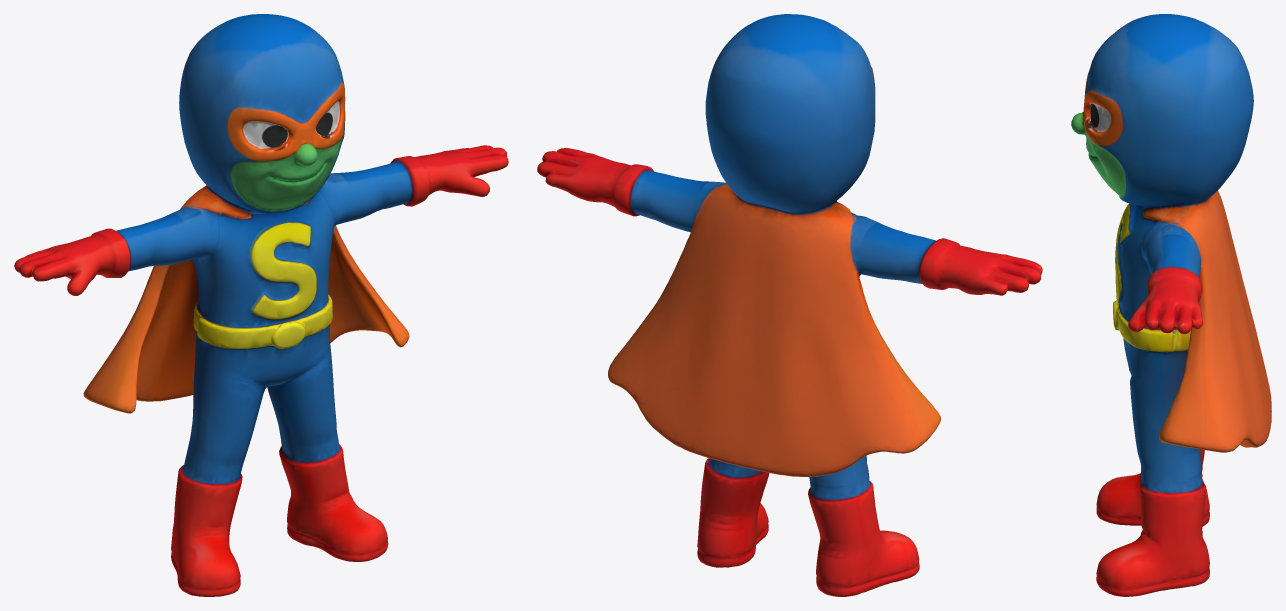
Rendered from remeshed.glb.
3 renders of one model, left to right at view 1: azimuth 30°, elevation 25°; view 2: azimuth 150°, elevation 25°; view 3: azimuth 270°, elevation 25°, orthographic. The views are drawn at different scales.
Bounding box in the file's own units: 1.84 × 1.92 × 0.6629.
Materials: 1 (1 with a texture image).
